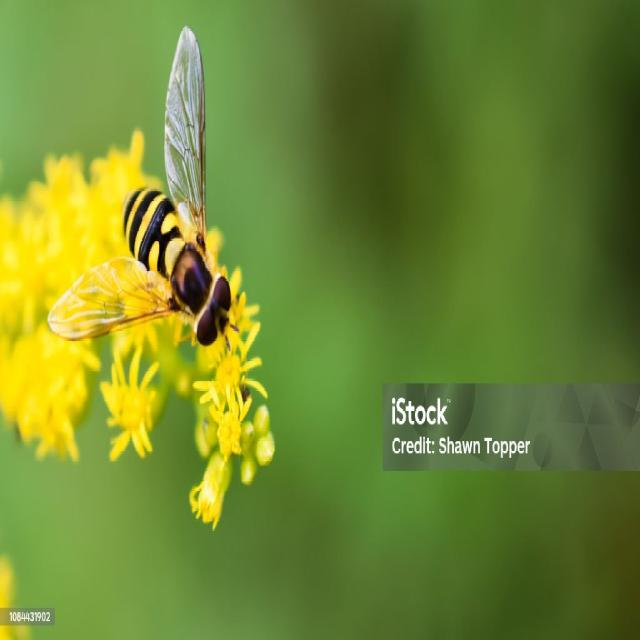hoverfly: (47, 23, 241, 363)
